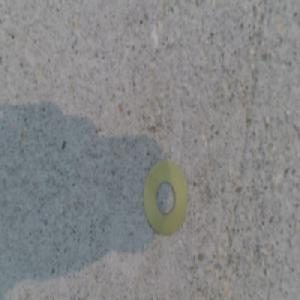Washer: (144, 158, 186, 235)
